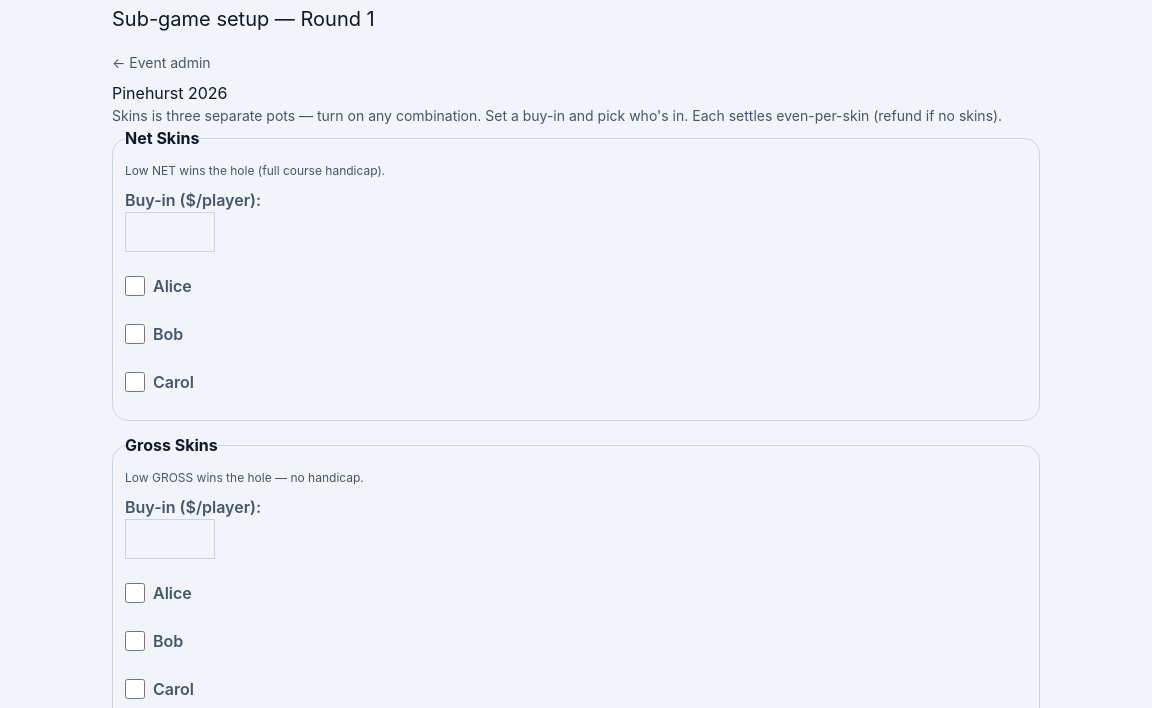
Test: SubGamesPage › enabling Net + Gross pots + Save → POST sends two skins entries with modes + $25
The image size is (1152, 708).
Type "25" into the number field with test id "skins-buyin-net" at {"x": 170, "y": 232}, box top-left (125, 212), bottom-right (215, 252)
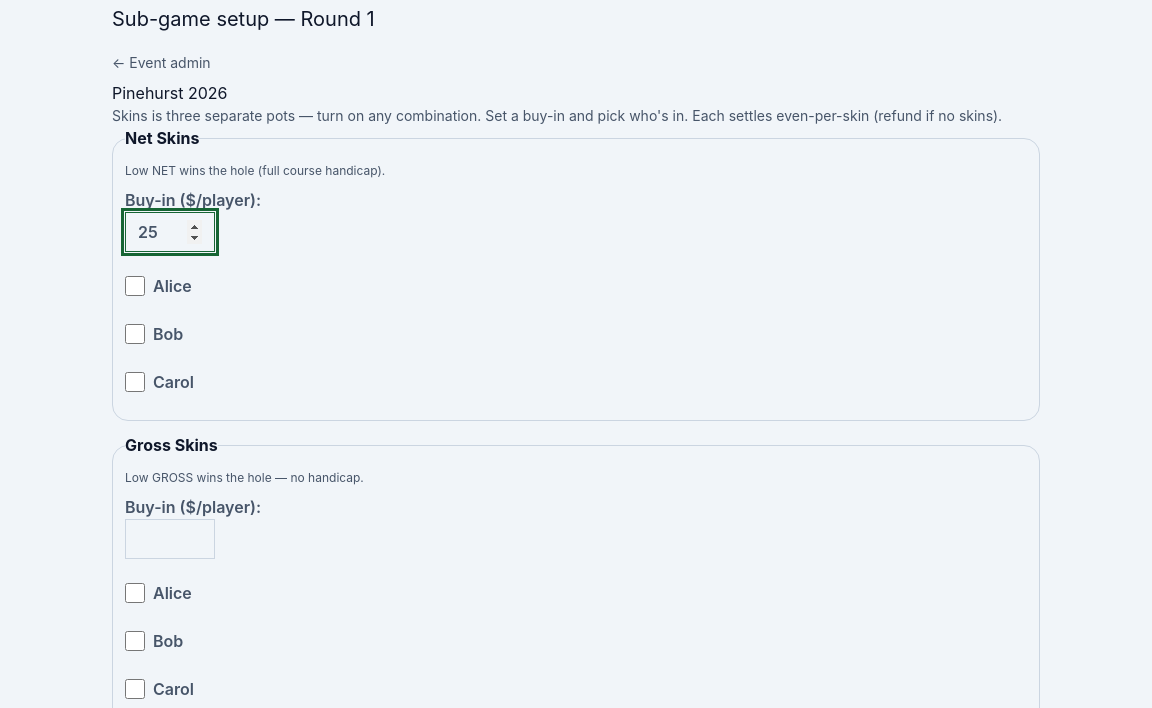
Click the checkbox with test id "skins-participant-net-p-alice" at {"x": 135, "y": 286}, box top-left (125, 276), bottom-right (145, 296)
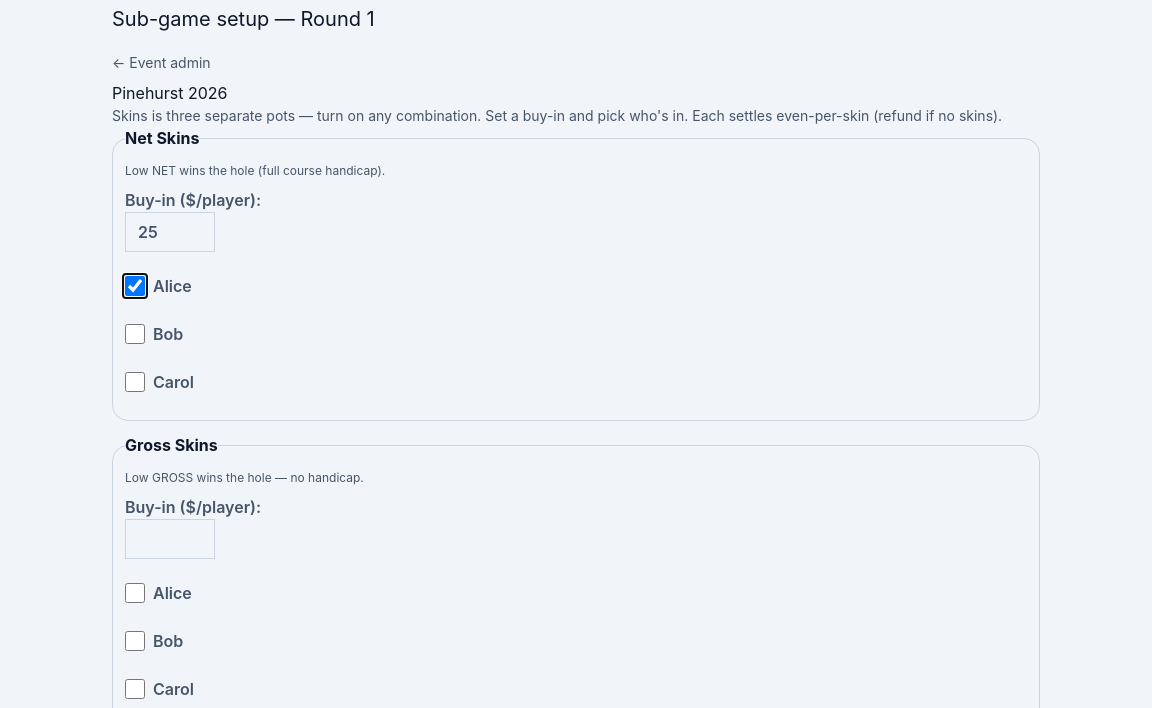
Click the checkbox with test id "skins-participant-net-p-bob" at {"x": 135, "y": 334}, box top-left (125, 324), bottom-right (145, 344)
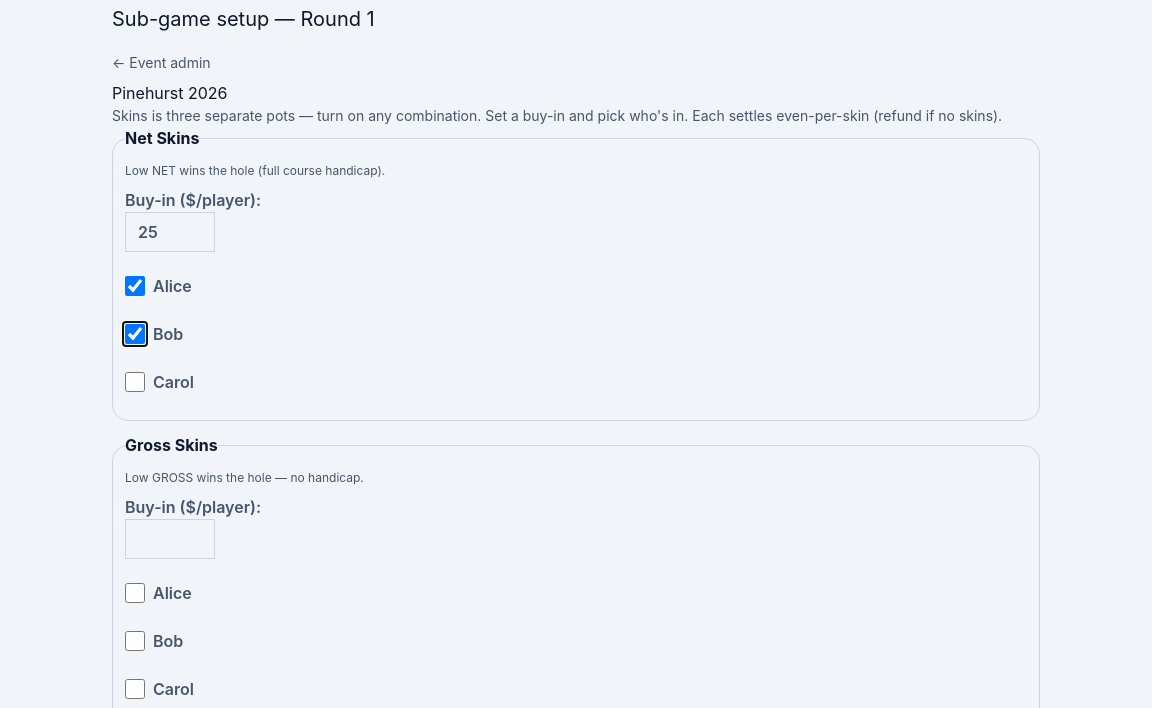
Type "25" into the number field with test id "skins-buyin-gross" at {"x": 170, "y": 539}, box top-left (125, 519), bottom-right (215, 559)
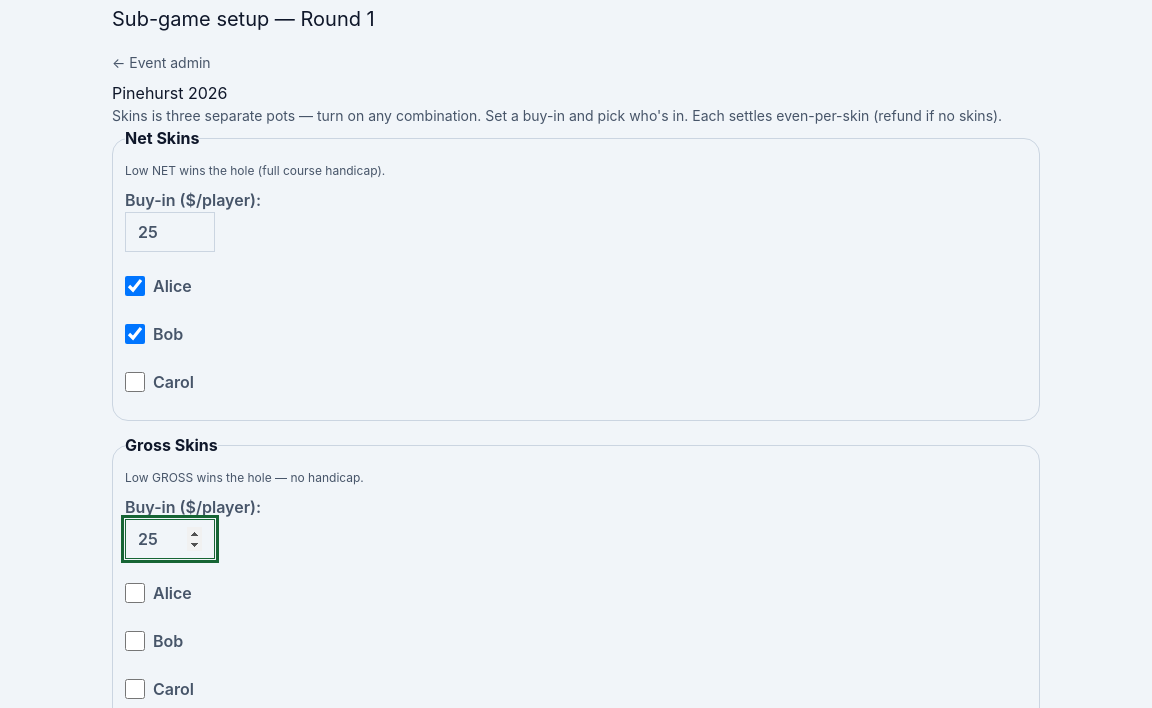
Click the checkbox with test id "skins-participant-gross-p-alice" at {"x": 135, "y": 593}, box top-left (125, 583), bottom-right (145, 603)
(page scrolled)
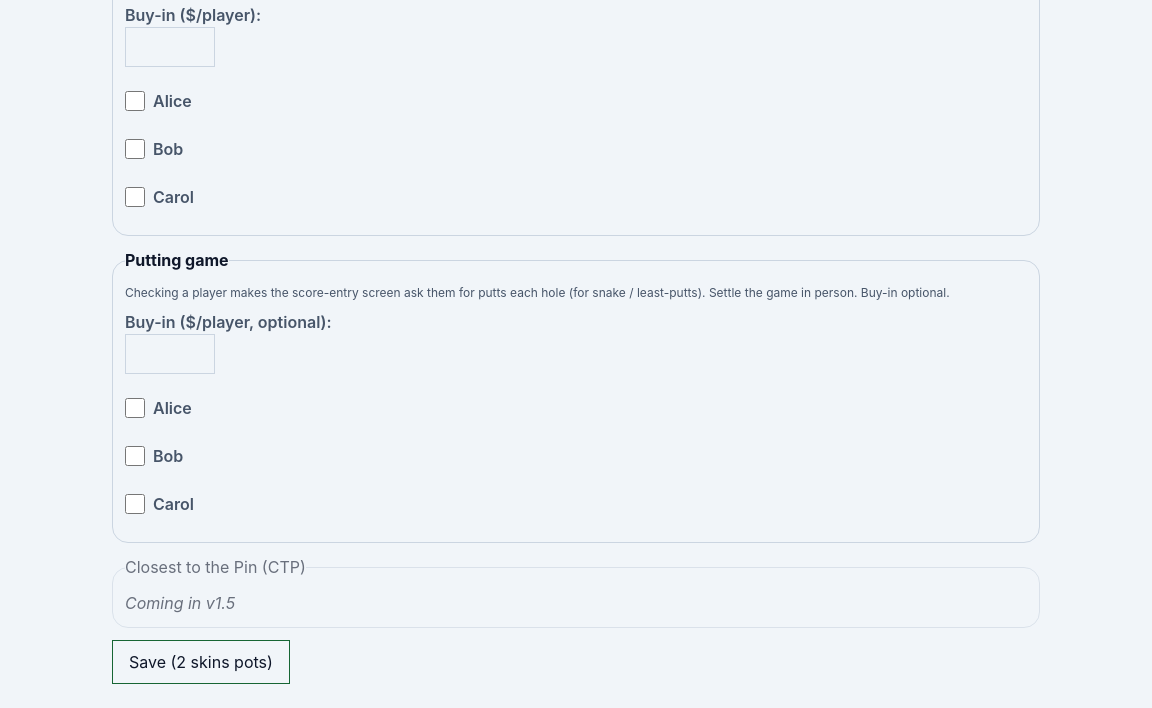
Click the button with test id "save-sub-games" at {"x": 201, "y": 662}, box top-left (112, 640), bottom-right (290, 684)
(page scrolled)
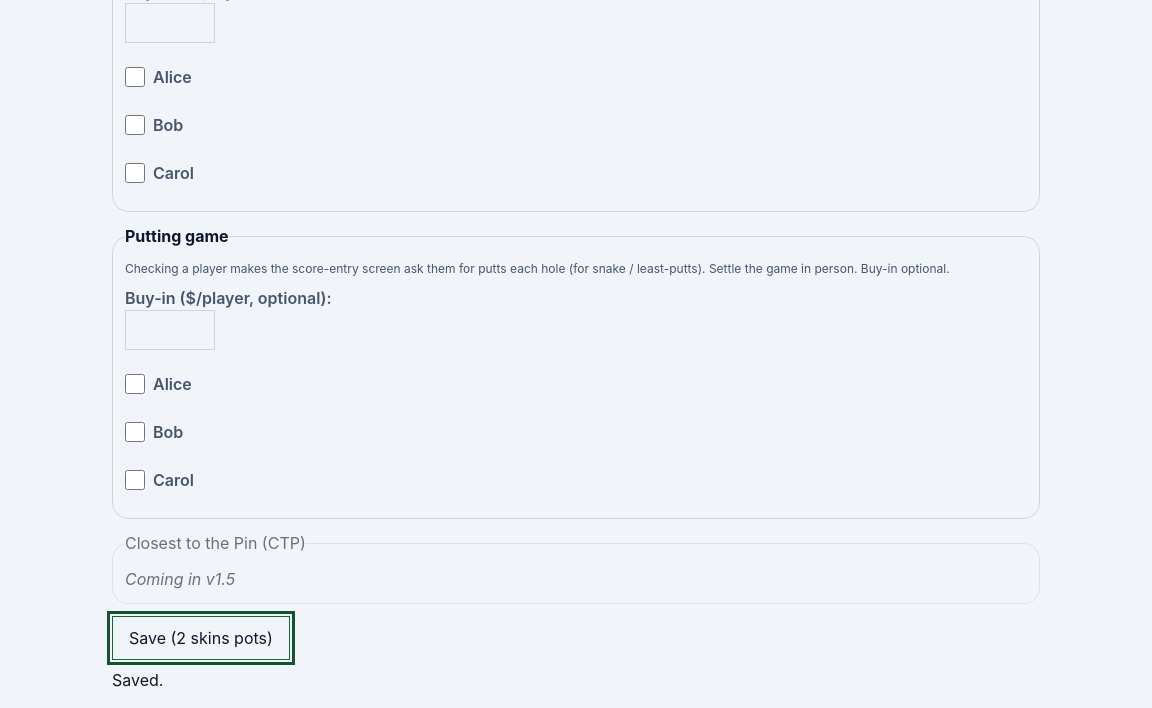
Result: the message shows "Saved" at top-left (112, 670), bottom-right (163, 690)
